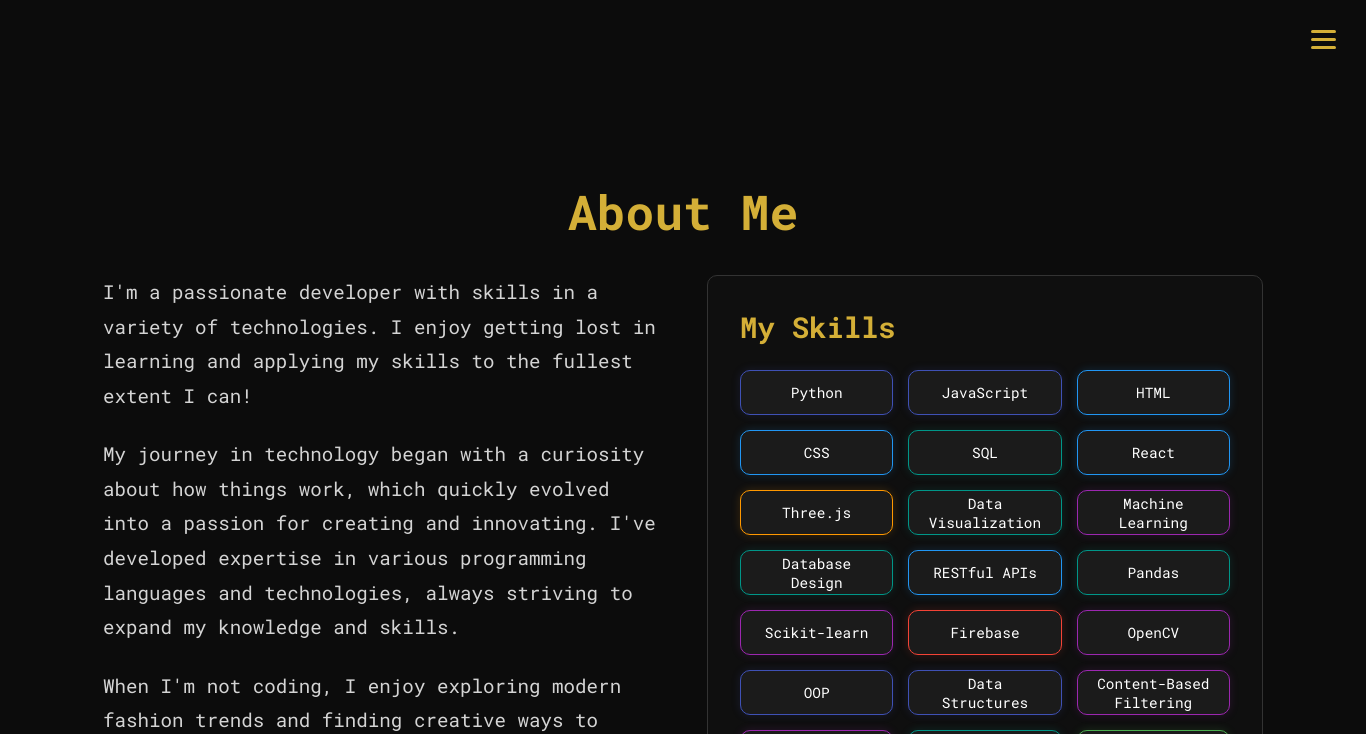
Test case: inner-page menu toggle is named, reports its state, and keeps closed links out of reach
The image size is (1366, 734).
Click the button named "Toggle navigation". click: (1324, 40)
box: [1311,30,1336,49]
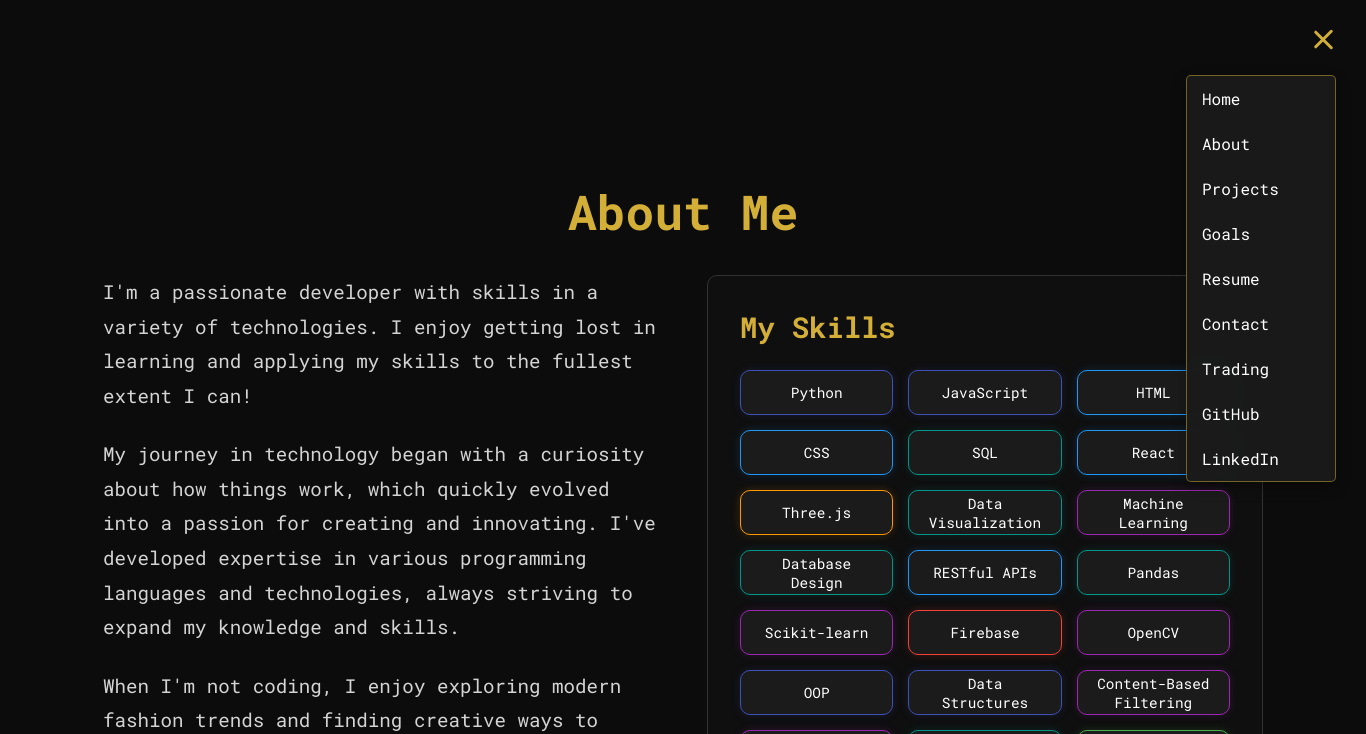
Expected: the button named "Toggle navigation" is expanded, [1311,30,1336,49]
